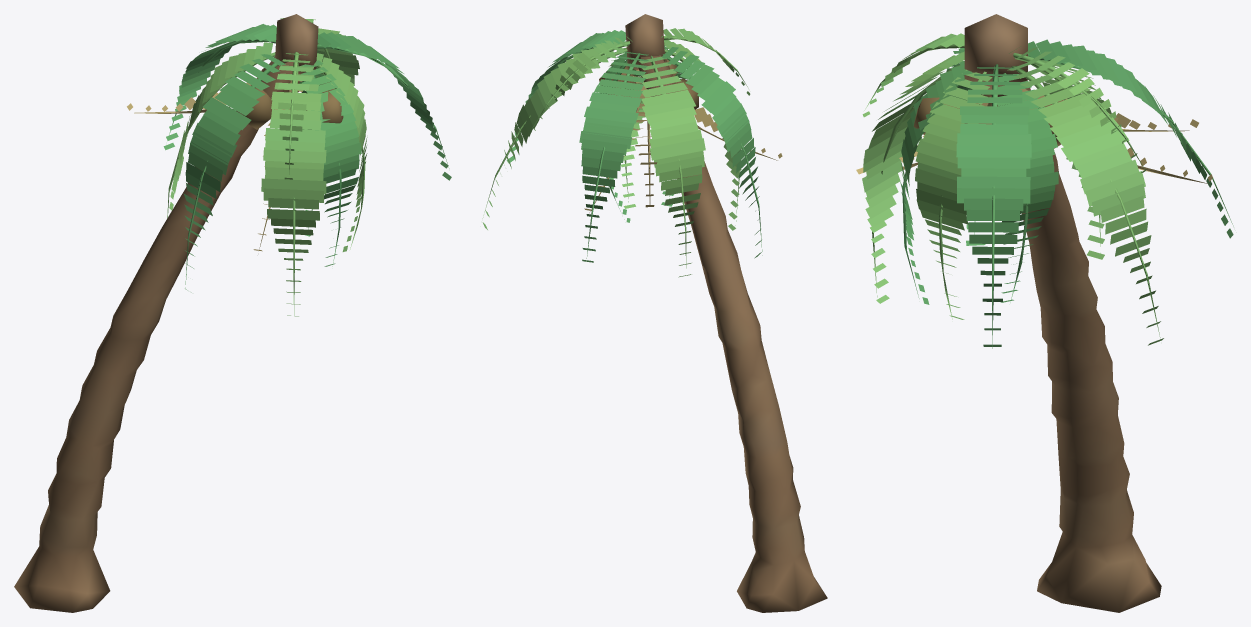
File: palm_b_far.glb
The picture shows the model from 3 angles, left to right: view 1: azimuth 30°, elevation 25°; view 2: azimuth 150°, elevation 25°; view 3: azimuth 270°, elevation 25°; orthographic projection. The views are drawn at different scales.
Parts seen in each view (by area): view 1: palm_b; view 2: palm_b; view 3: palm_b.
Part boxes in pixels (x1,y1,x2,y2): palm_b: (14,14,451,612); palm_b: (482,14,827,612); palm_b: (856,14,1233,612).
Bounding box in the file's own units: 5.05 × 6.99 × 3.5.
